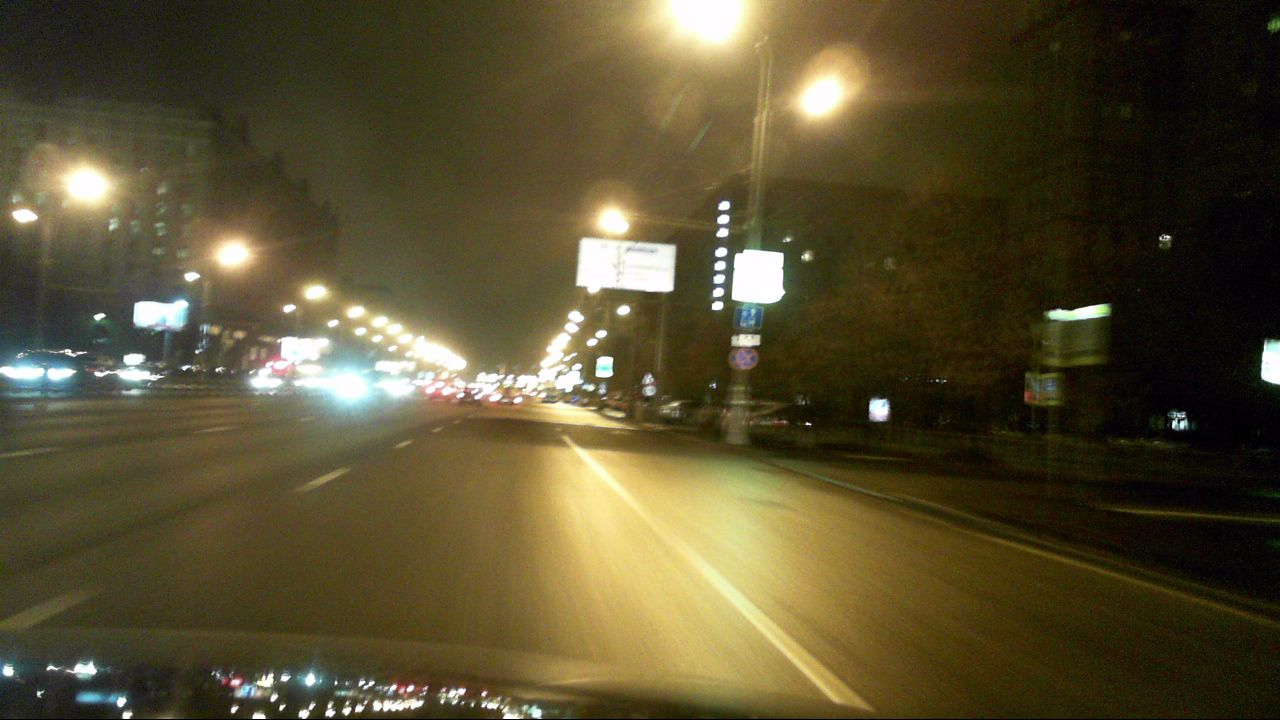No Parking: (735, 346, 759, 369)
